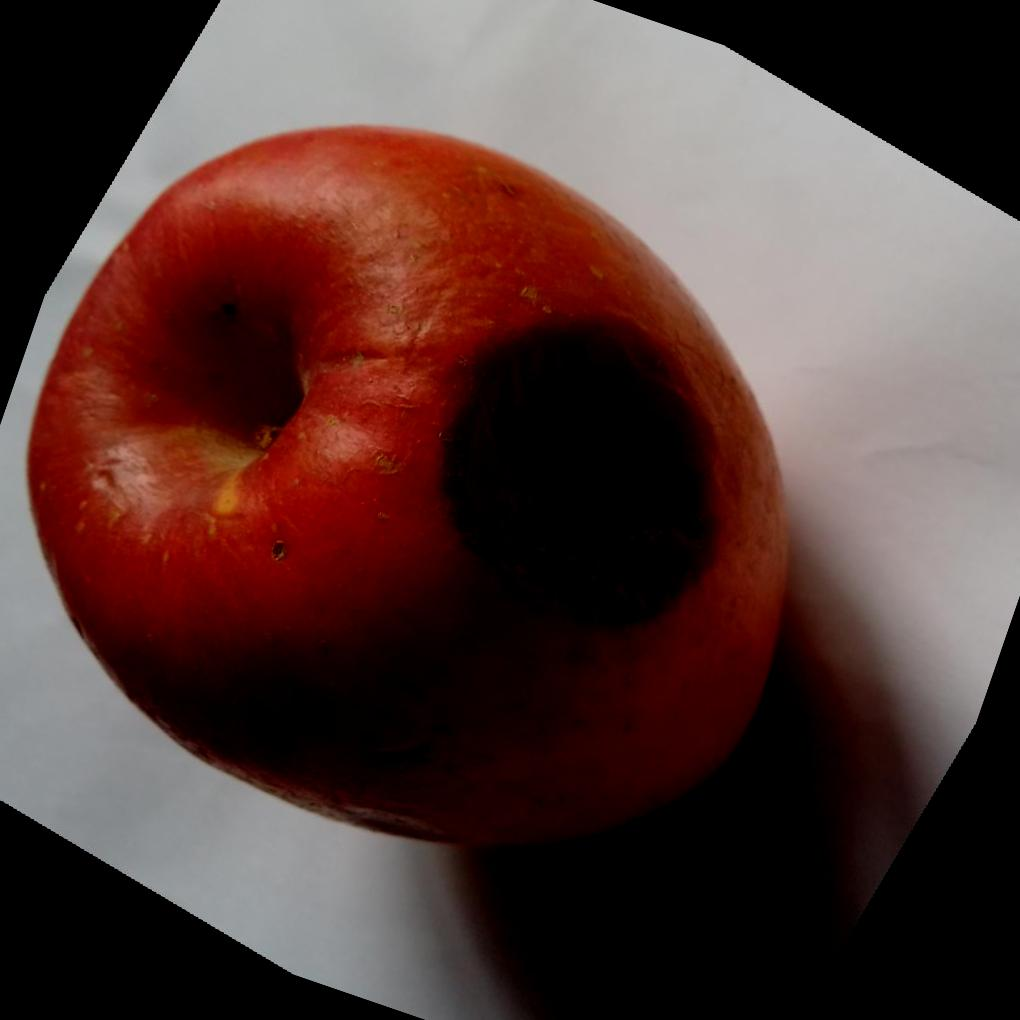FreshOrange: (25, 123, 797, 850)
